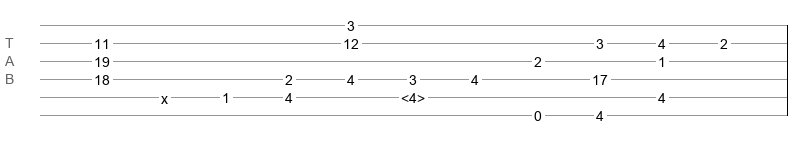0: (534, 108, 542, 118)
1: (222, 90, 230, 100), (658, 54, 666, 64)
11: (94, 36, 110, 46)
12: (343, 36, 359, 46)
17: (592, 72, 608, 82)
18: (94, 72, 110, 82)
19: (94, 54, 110, 64)
2: (285, 72, 293, 82), (534, 54, 542, 64), (720, 36, 728, 46)
3: (347, 18, 355, 28), (409, 72, 417, 82), (596, 36, 604, 46)
4: (285, 90, 293, 100), (347, 72, 355, 82), (471, 72, 479, 82), (596, 108, 604, 118), (658, 90, 666, 100), (658, 36, 666, 46)
harmonic: (401, 90, 425, 100)
x: (161, 91, 168, 99)
